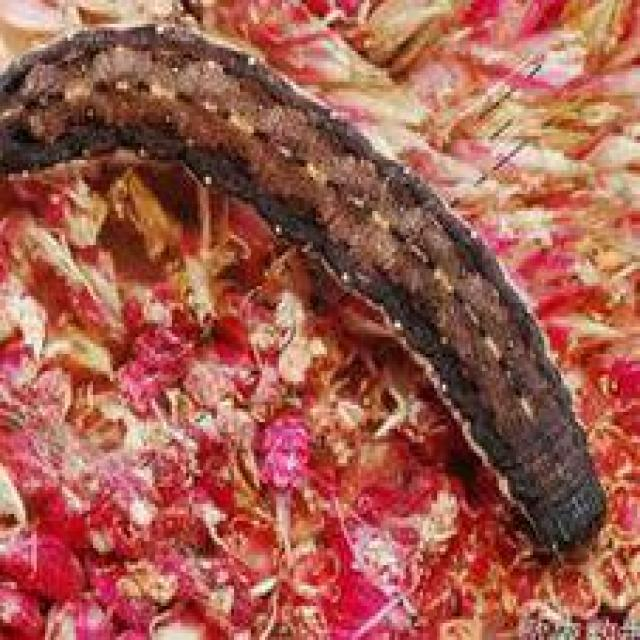BeetArmyWorm-Larva-: (2, 15, 616, 564)
